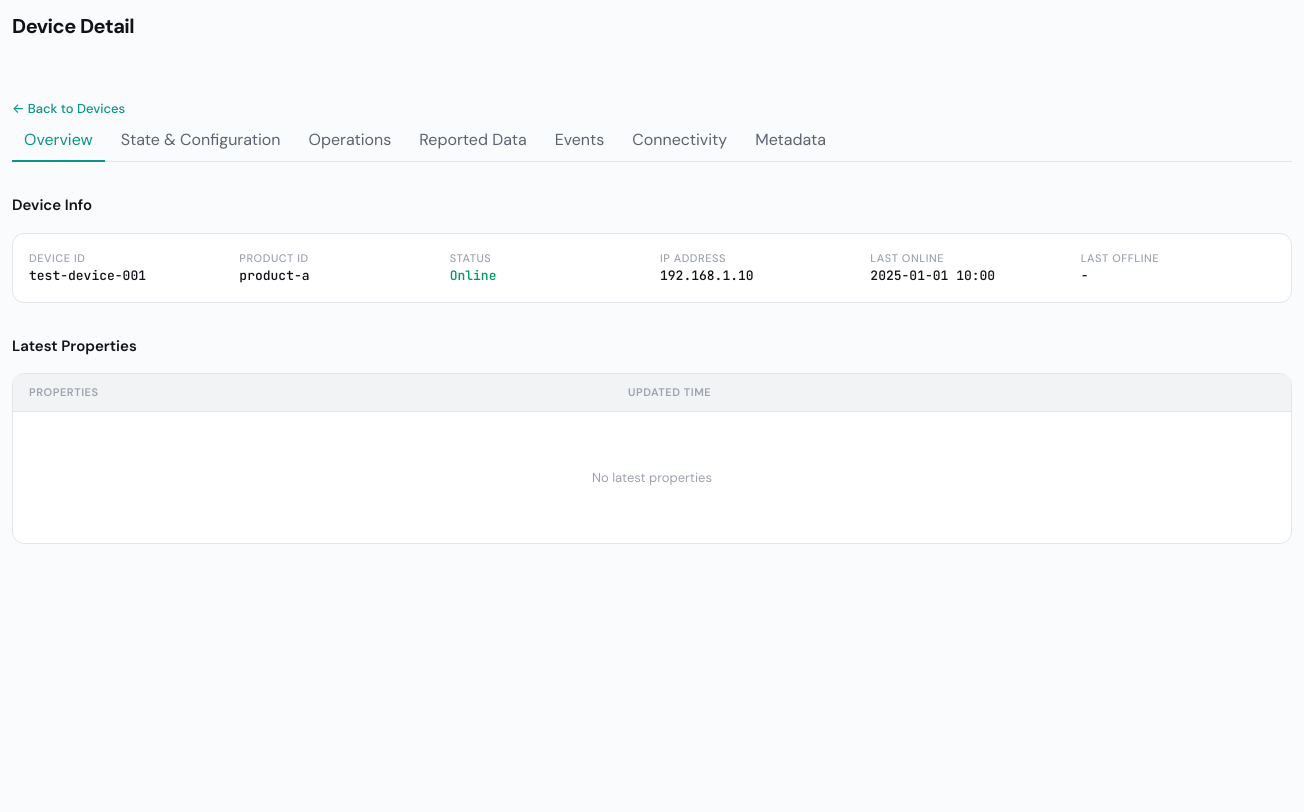
tab navigation › mounts the selected section and unmounts the previous one
Click the tab "State & Configuration": x=201, y=141 [109,120,293,162]
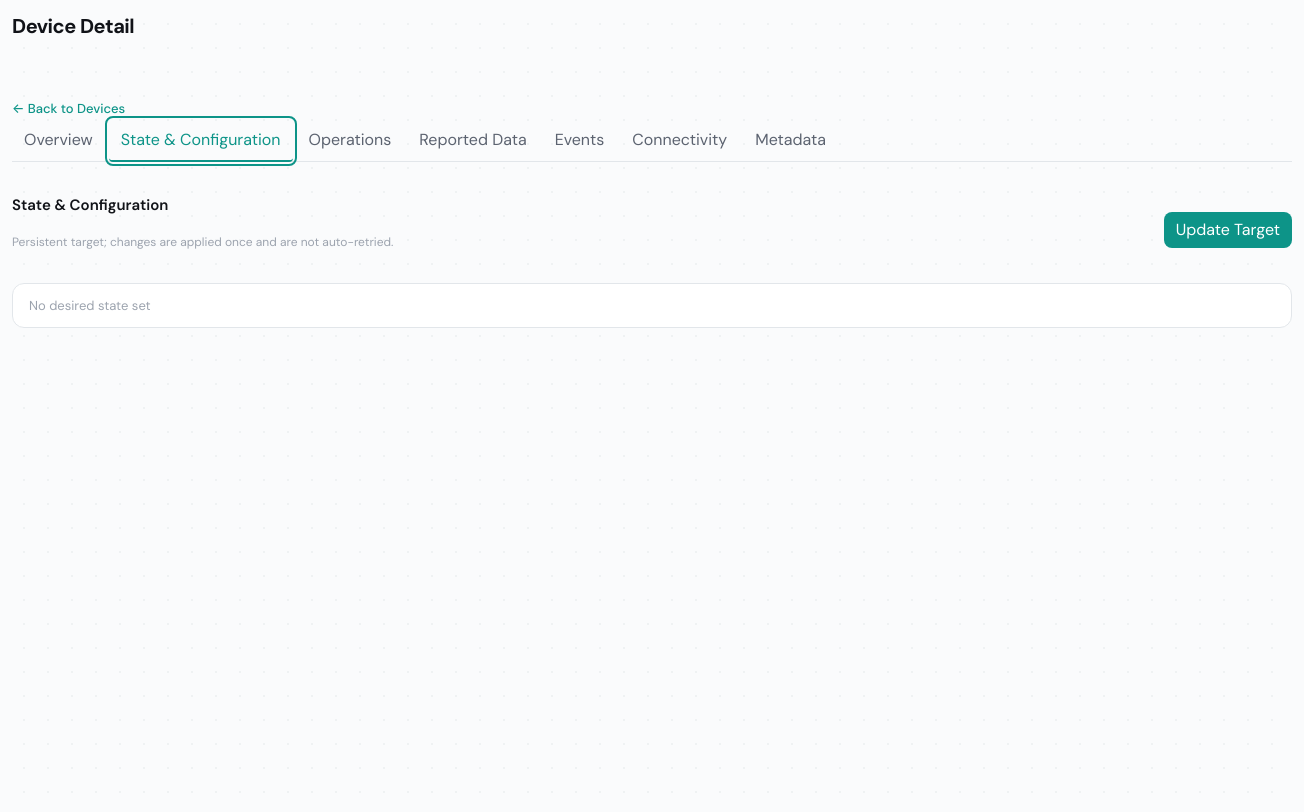
Check: the heading "State & Configuration" is shown, box [12,195,168,215]
Check: the heading "Device Info" is gone
Click the tab "Operations": x=350, y=141 [296,120,403,162]
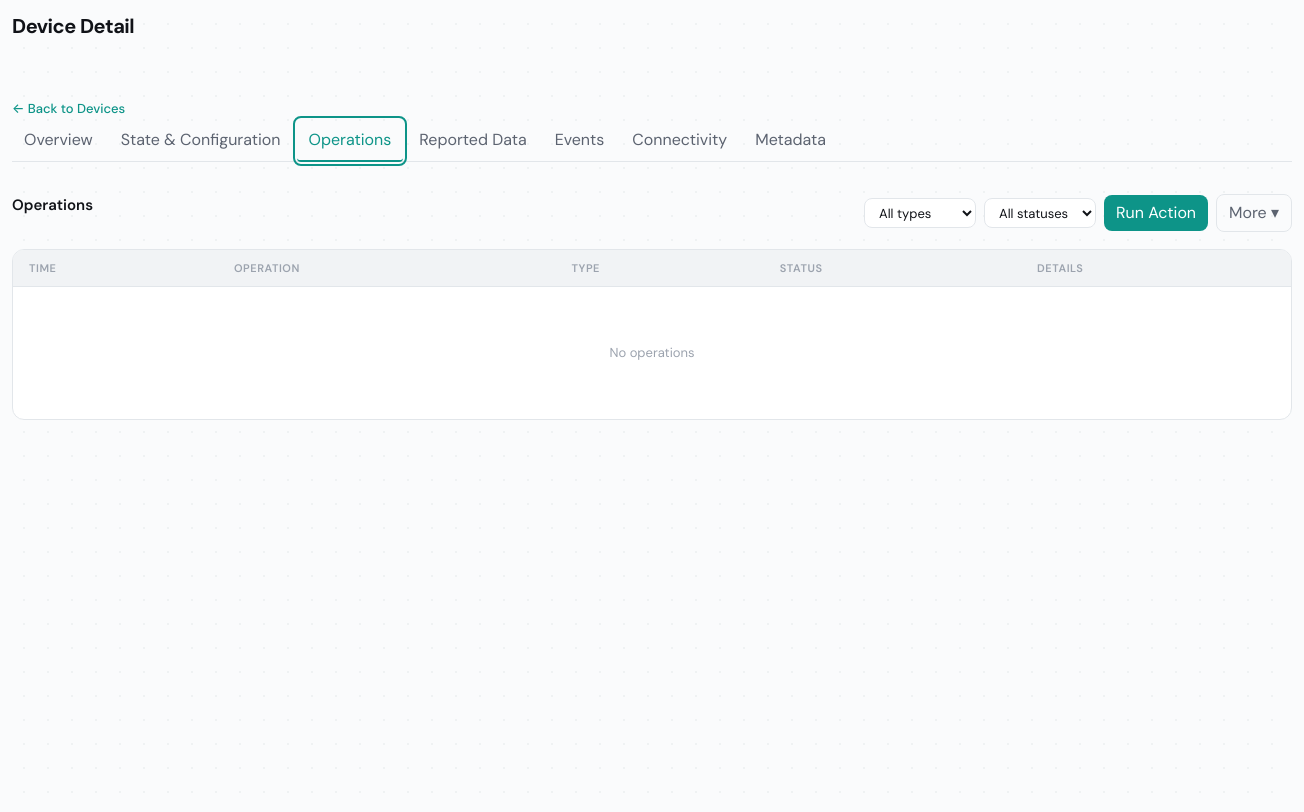
Check: the element with test id "device-operations-table" is shown, box [12,248,1292,420]
Click the tab "Reported Data": x=473, y=141 [407,120,539,162]
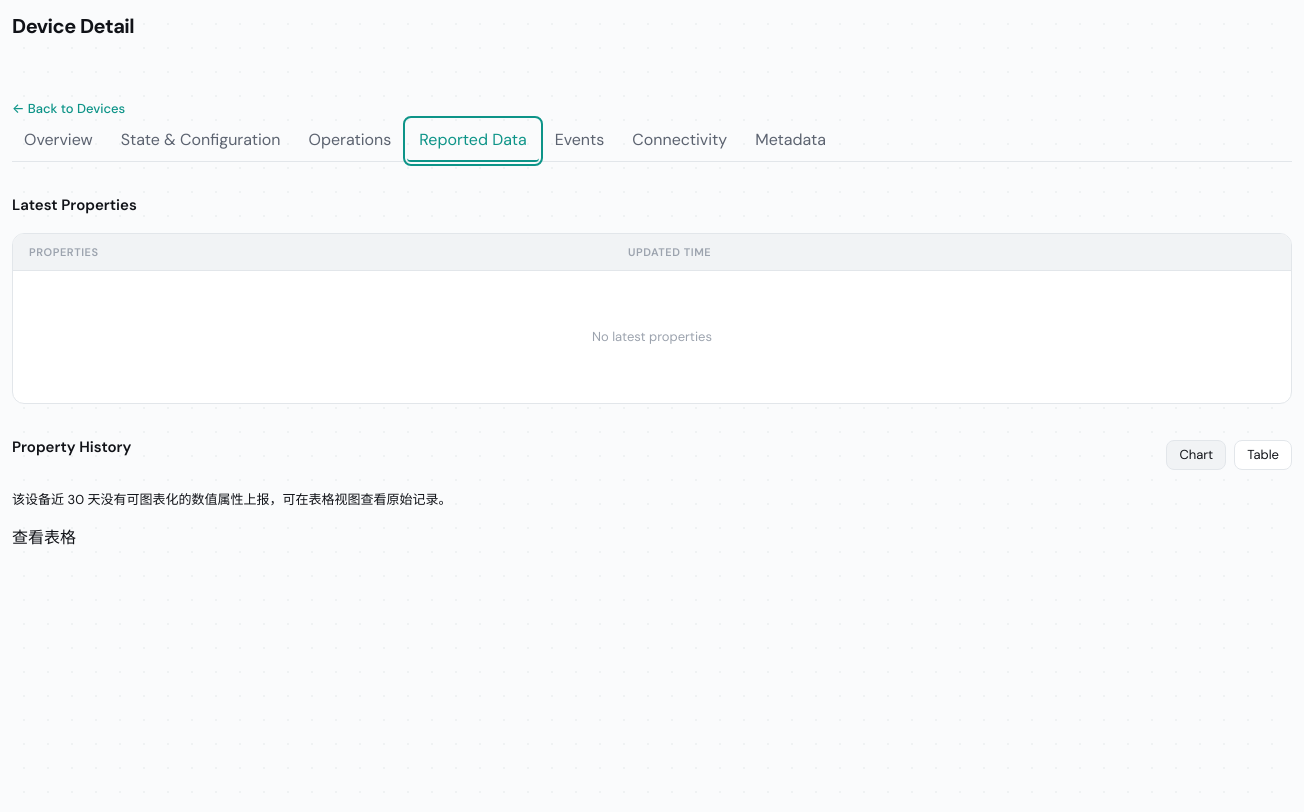
Check: the heading "Property History" is shown, box [12,436,131,458]
Check: the element with test id "device-operations-table" is gone
Click the tab "Events": x=580, y=141 [543,120,616,162]
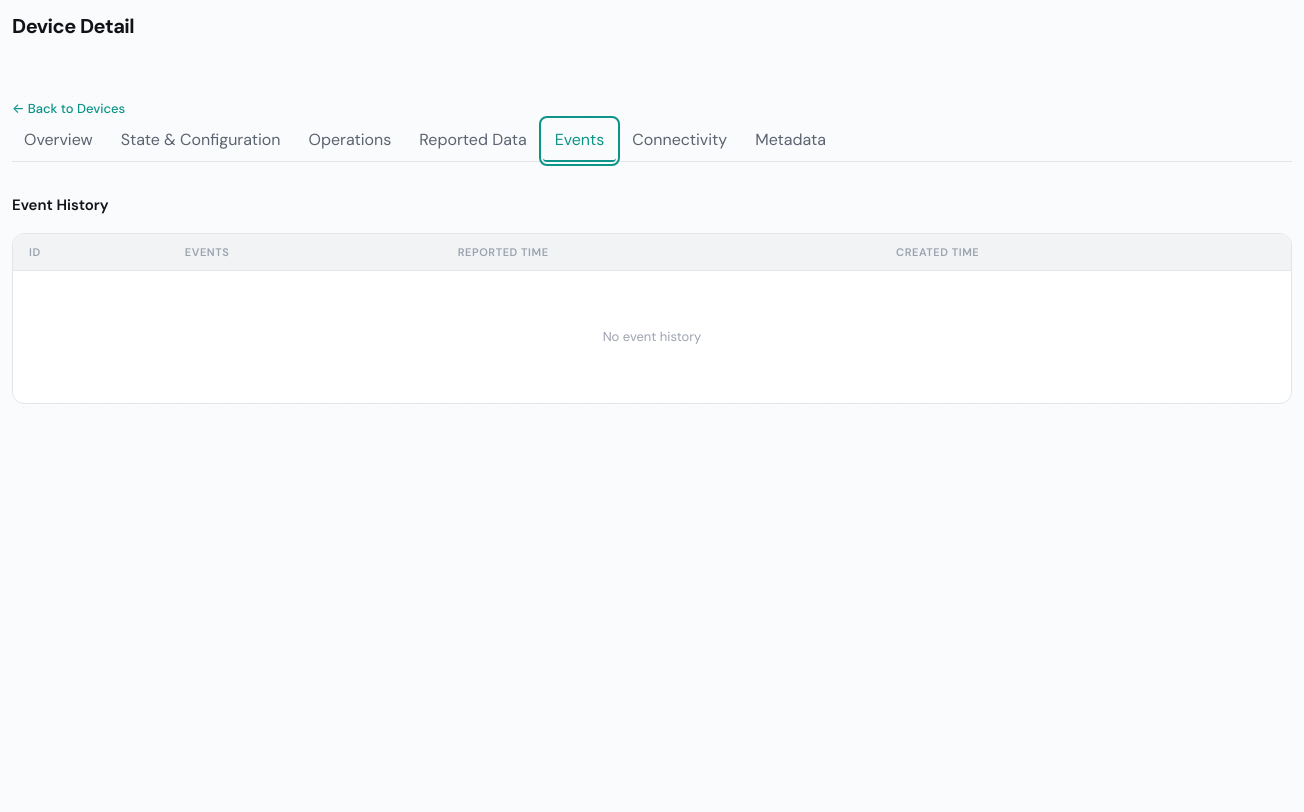
Check: the heading "Event History" is shown, box [12,195,109,215]
Check: the heading "Property History" is gone
Click the tab "Connectivity": x=680, y=141 [620,120,739,162]
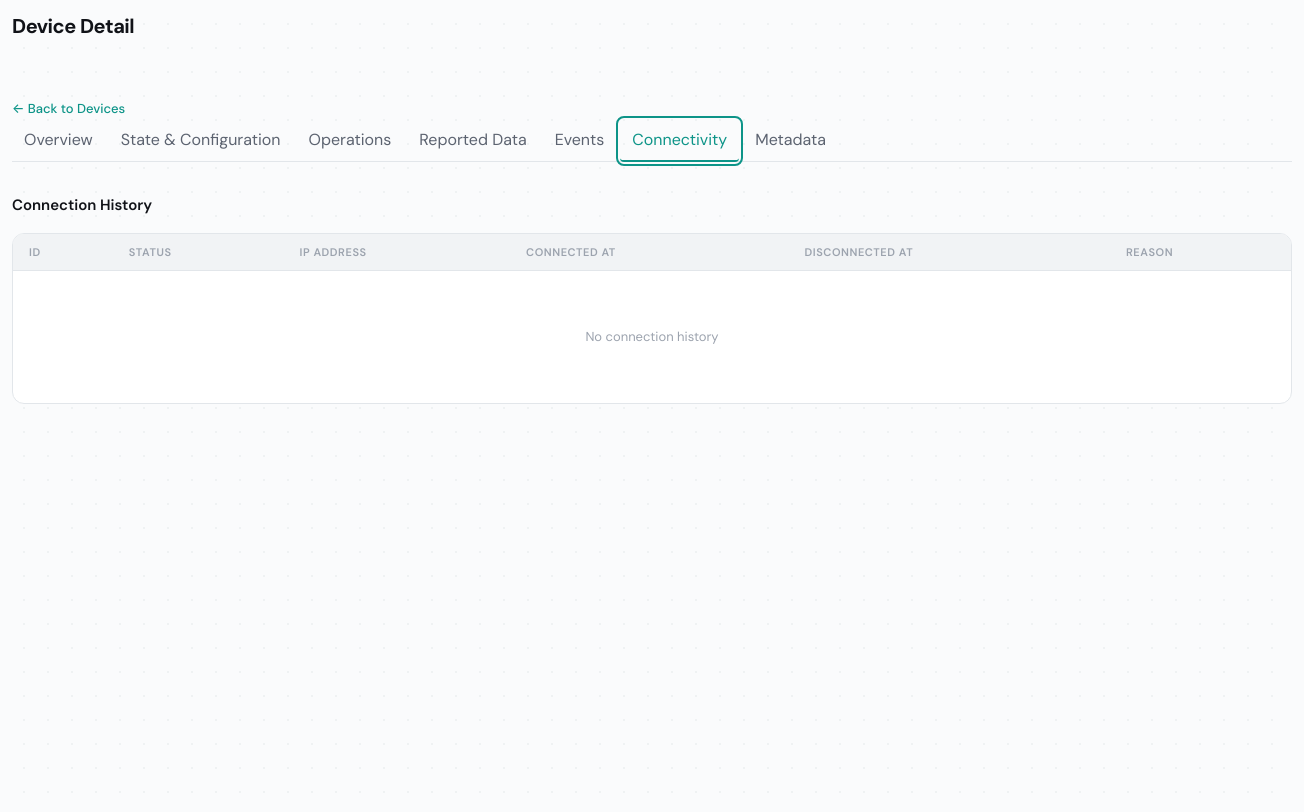
Check: the heading "Connection History" is shown, box [12,195,152,215]
Check: the heading "Event History" is gone
Click the tab "Metadata": x=791, y=141 [743,120,838,162]
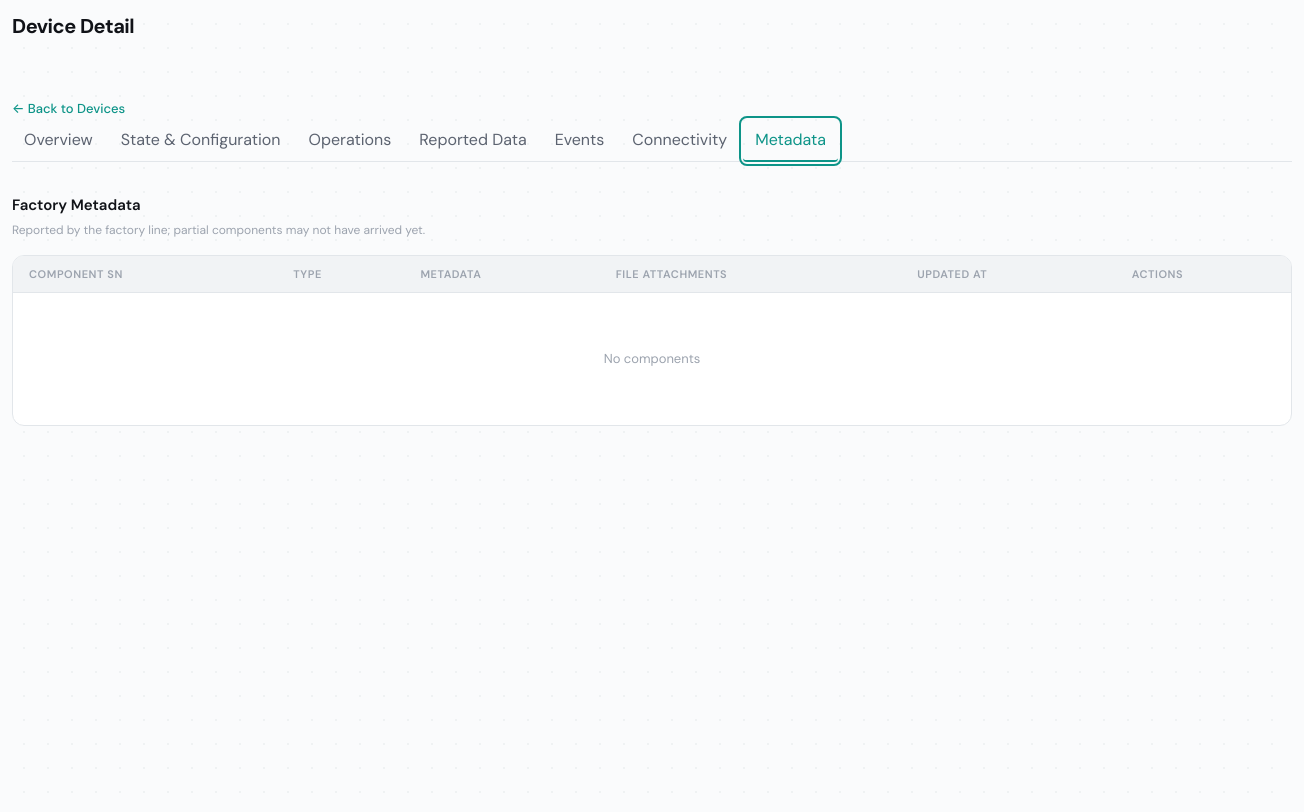
Check: the element with test id "factory-metadata-section" is shown, box [12,194,1292,426]
Check: the heading "Connection History" is gone
